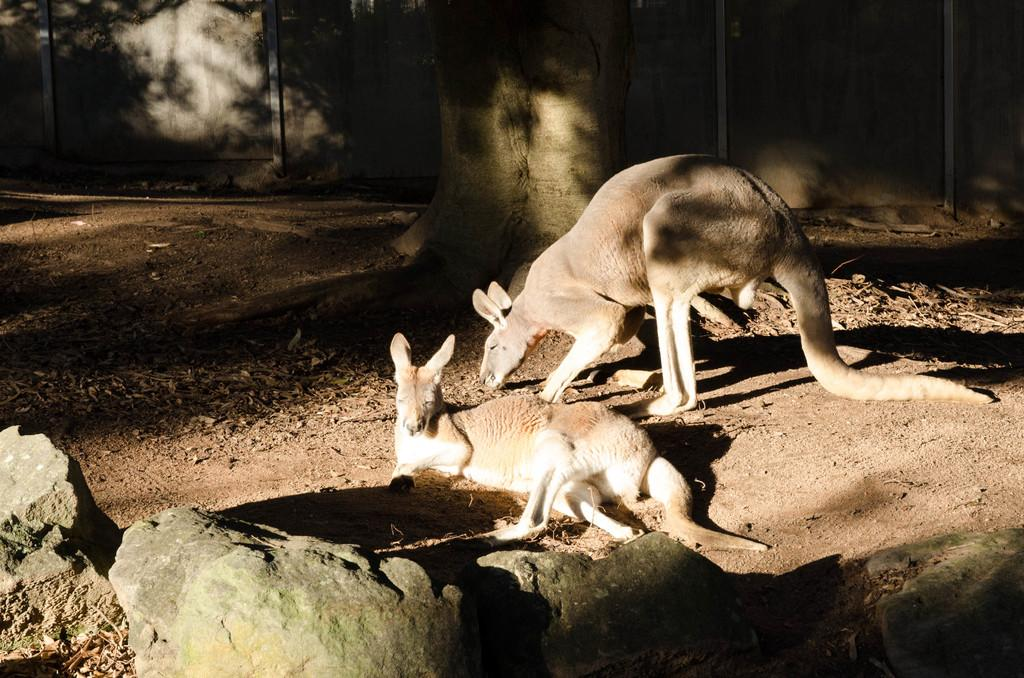kangaroo: (471, 156, 995, 420), (387, 334, 767, 544)
